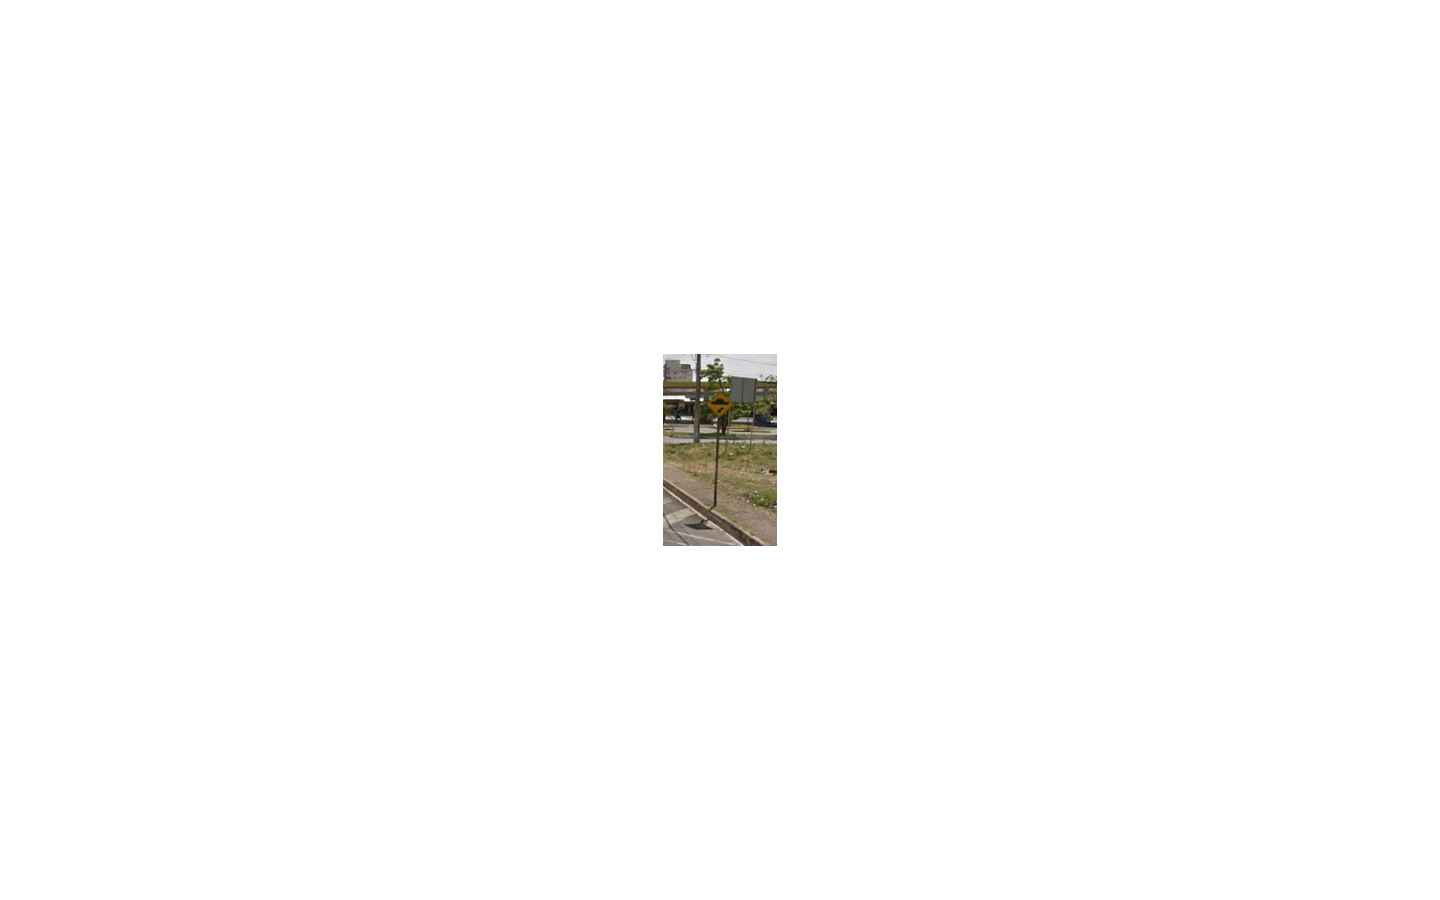lomb: (706, 391, 733, 417)
